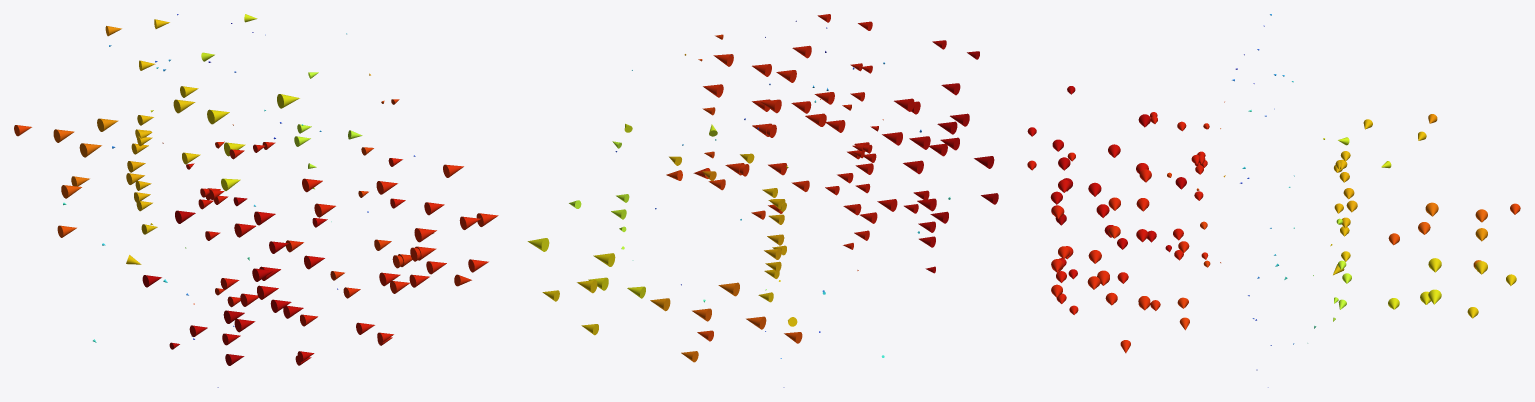
File: LineasCorrienteH2-O2_mh2-1.38_V-1.glb
3 renders of one model, left to right at view 1: azimuth 30°, elevation 25°; view 2: azimuth 150°, elevation 25°; view 3: azimuth 270°, elevation 25°, orthographic. The views are drawn at different scales.
Bounding box in the file's own units: 0.000904 × 0.000948 × 0.00123.
Materials: 2 (2 with a texture image).
